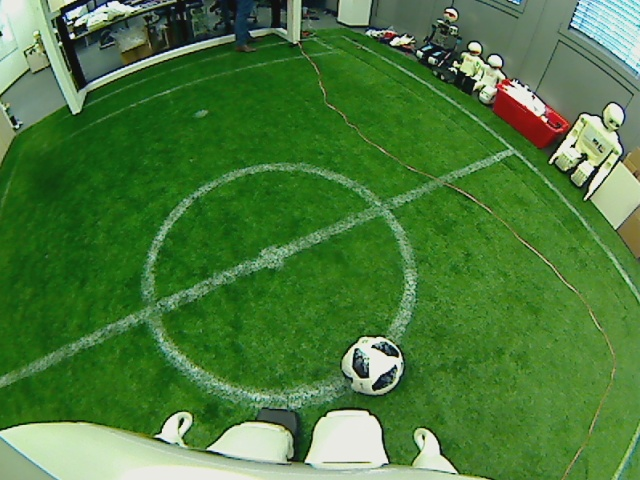ball: (340, 333, 405, 395)
